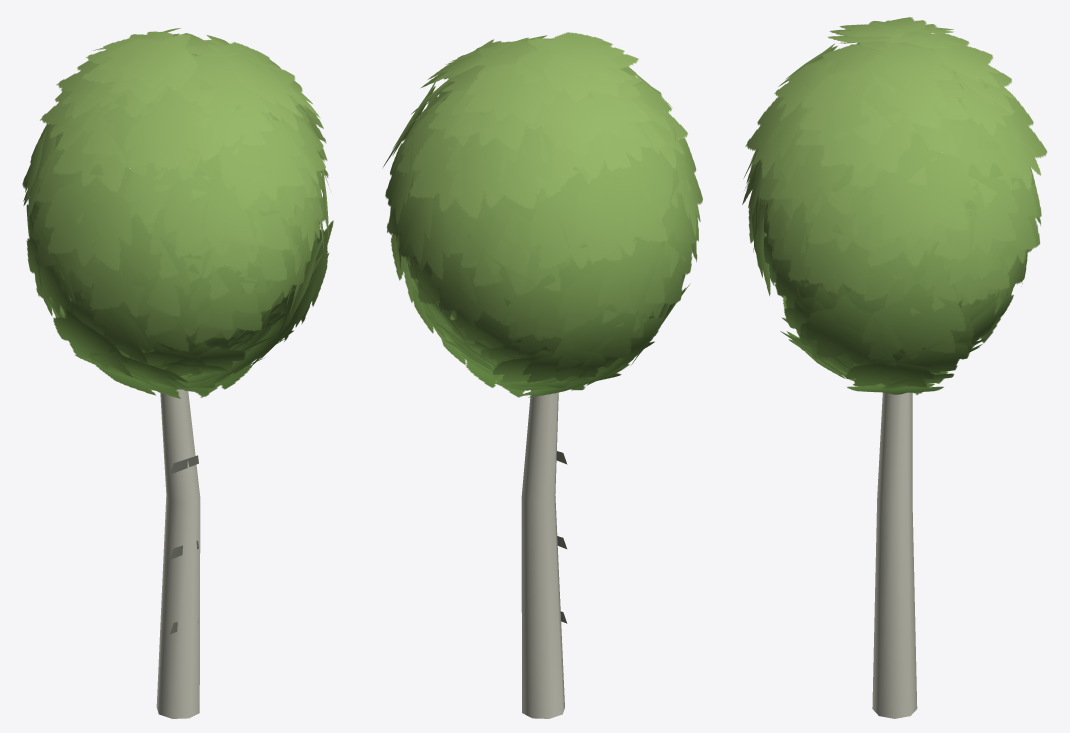
Rendered from birch-83.glb.
3 renders of one model, left to right at view 1: azimuth 30°, elevation 25°; view 2: azimuth 150°, elevation 25°; view 3: azimuth 270°, elevation 25°, orthographic.
Parts seen in each view (by area): view 1: pale birch; view 2: pale birch; view 3: pale birch.
Part boxes in pixels (box(x1,y1,x2,y2)): pale birch: box(22, 28, 333, 718); pale birch: box(383, 32, 702, 718); pale birch: box(742, 17, 1047, 718).
Bounding box in the file's own units: 2.91 × 6.33 × 2.72.
Materials: 1 (1 with a texture image).
